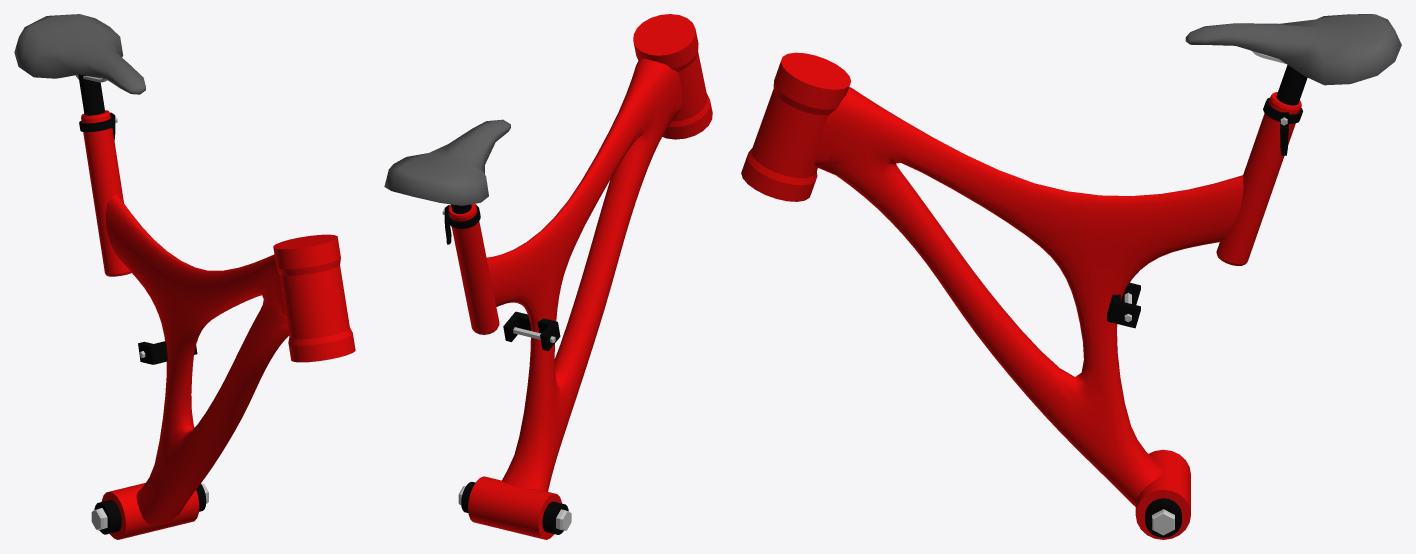
Rendered from bicycle_fullSusp_body.fbx.
The picture shows the model from 3 angles, left to right: view 1: azimuth 30°, elevation 25°; view 2: azimuth 150°, elevation 25°; view 3: azimuth 270°, elevation 25°; orthographic projection. The views are drawn at different scales.
Visible parts, largest first — view 1: frame1; view 2: frame1; view 3: frame1.
Boxes of the visible parts, x1,y1,x2,y2 form: frame1: [14, 14, 355, 539]; frame1: [384, 14, 712, 539]; frame1: [741, 14, 1401, 539].
Bounding box in the file's own units: 16.56 × 64.82 × 78.21.
